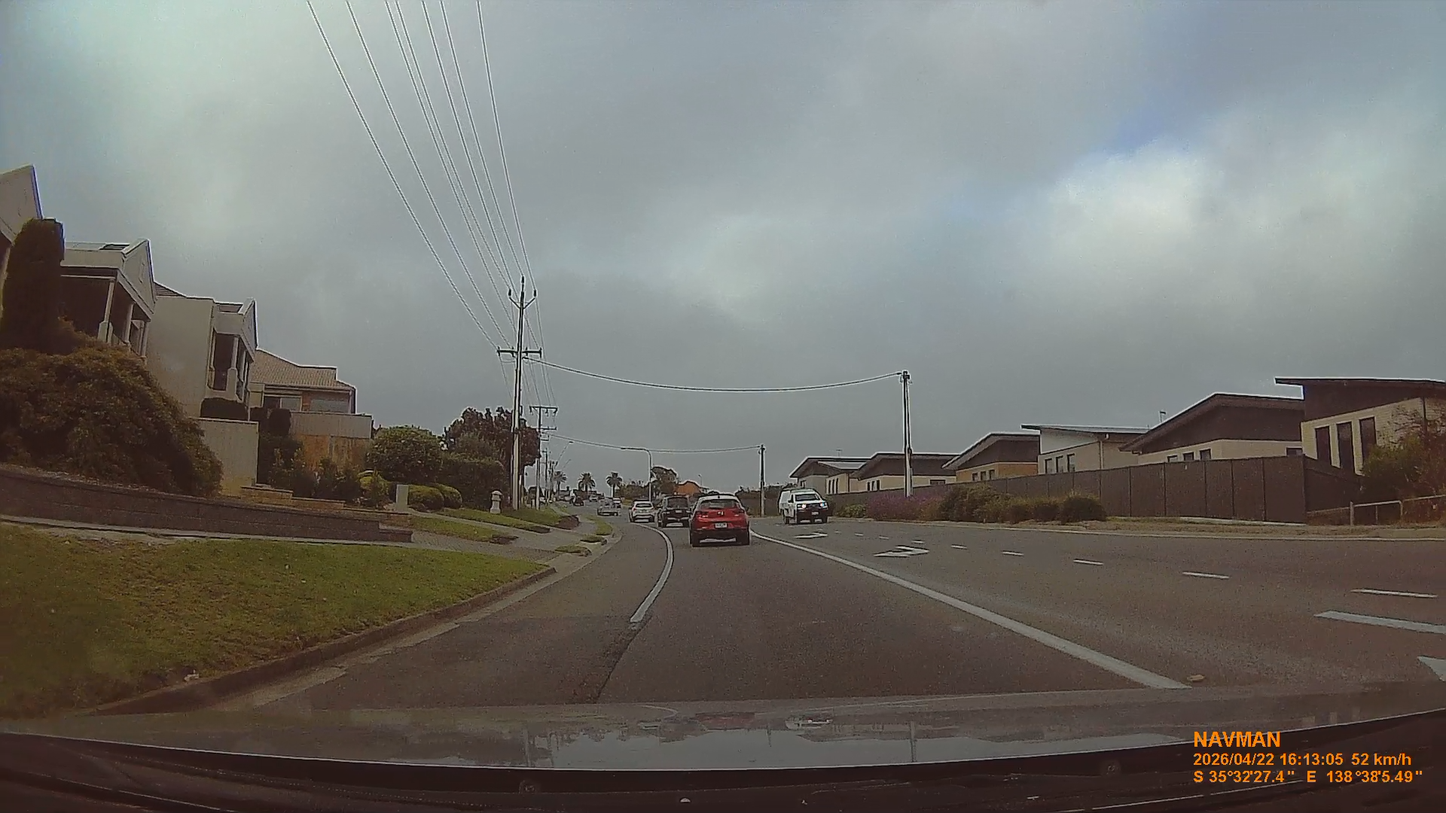fences: (969, 458, 1358, 523), (258, 409, 373, 497), (198, 418, 259, 493), (1309, 495, 1445, 526)
